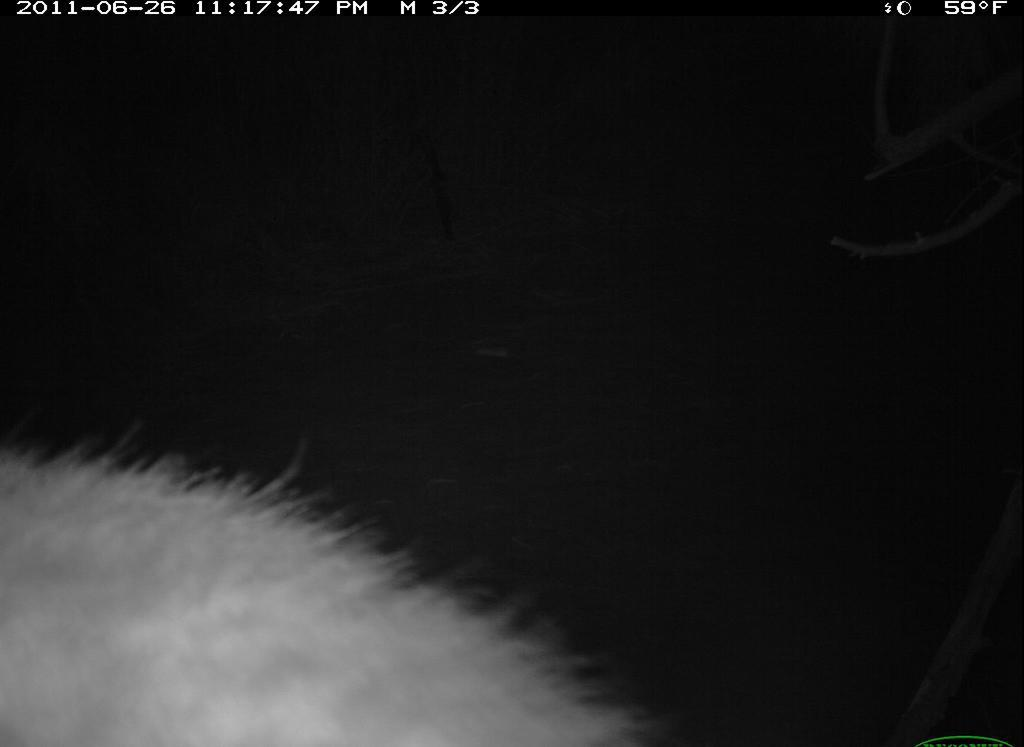raccoon: (6, 446, 667, 745)
